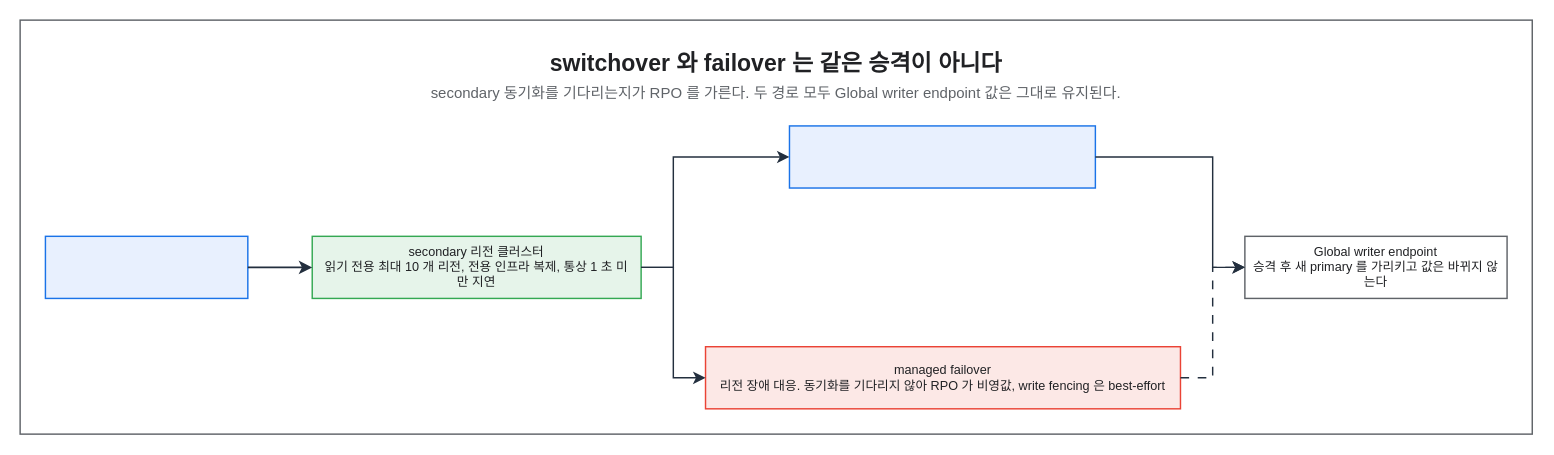
Image size: 1554x455. Some labels were removed from this diagram. The box of each missing label's shape, as (x1, y1, x2, y2) in pixels:
primary 리전 클러스터 쓰기를 받는 리전 1 개: (44, 235, 248, 299)
switchover 모든 클러스터가 정상일 때. 동기화를 기다린 뒤 승격하므로 RPO 0: (788, 125, 1096, 188)
